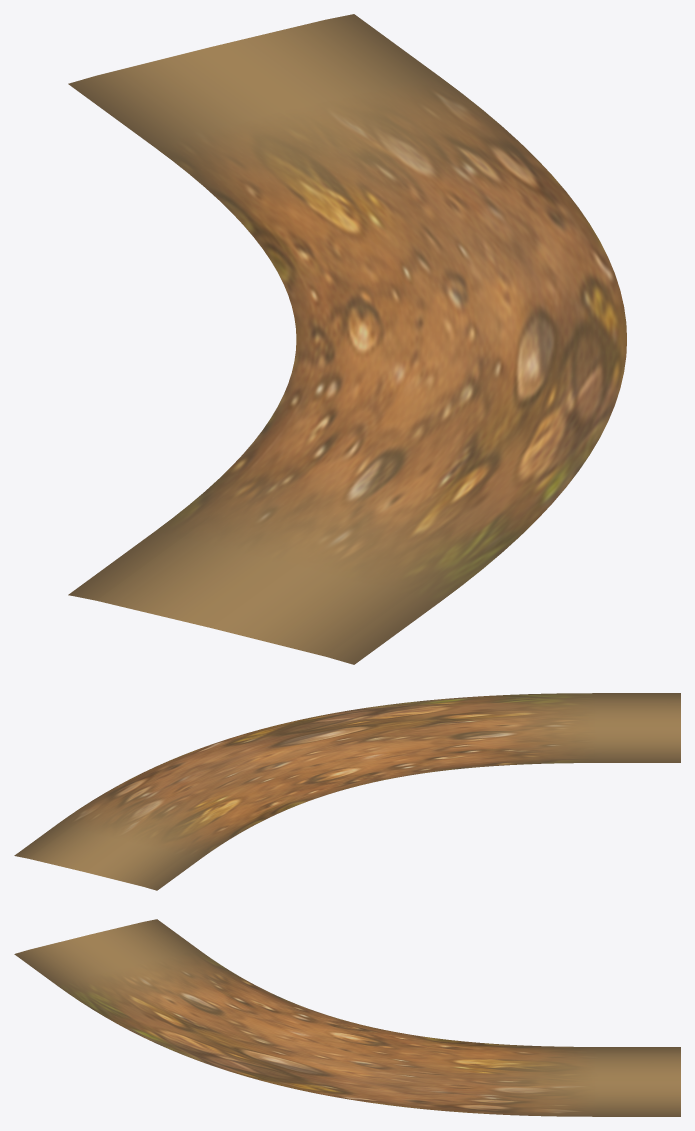
File: hex_path_turn_120.glb
3 views of the same model, one above another, from view 1: azimuth 30°, elevation 25°; view 2: azimuth 150°, elevation 25°; view 3: azimuth 270°, elevation 25° (orthographic). The views are drawn at different scales.
Parts seen in each view (by area): view 1: Independent painted path ribbon; view 2: Independent painted path ribbon; view 3: Independent painted path ribbon.
Part boxes in pixels (x1,y1,x2,y2): Independent painted path ribbon: (68,14,626,664); Independent painted path ribbon: (14,693,680,890); Independent painted path ribbon: (14,919,680,1116).
Bounding box in the file's own units: 2.6 × 0.006 × 3.71.
Materials: 1 (1 with a texture image).
